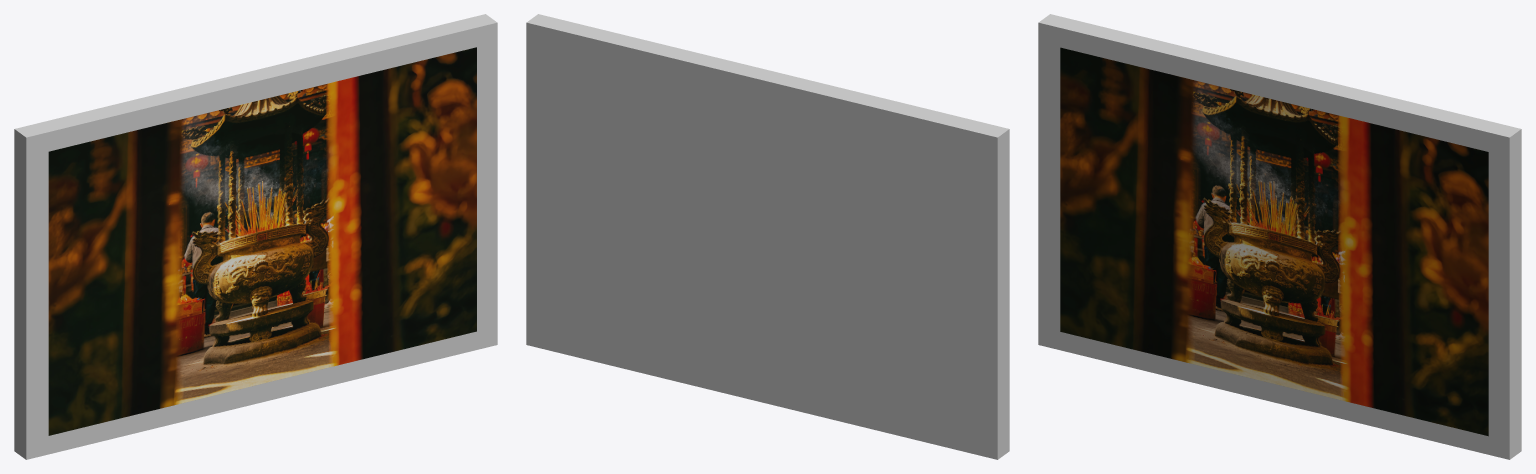
3 renders of one model, left to right at view 1: azimuth 30°, elevation 25°; view 2: azimuth 150°, elevation 25°; view 3: azimuth 330°, elevation 25°, orthographic.
Parts seen in each view (by area): view 1: 平面, 立方体; view 2: 立方体; view 3: 平面, 立方体.
Part boxes in pixels (box(x1,y1,x2,y2)): 平面: box(48, 47, 476, 435); 立方体: box(14, 14, 497, 459); 立方体: box(526, 14, 1009, 459); 平面: box(1060, 47, 1488, 436); 立方体: box(1038, 14, 1521, 459).
Size of the model in its own units: 3.47 by 2.27 by 0.1551.
1 material, 1 textured.
